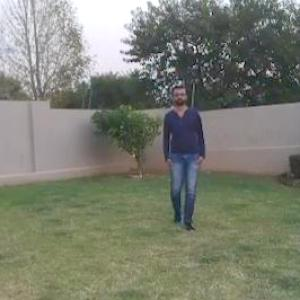follow: (156, 78, 211, 239)
